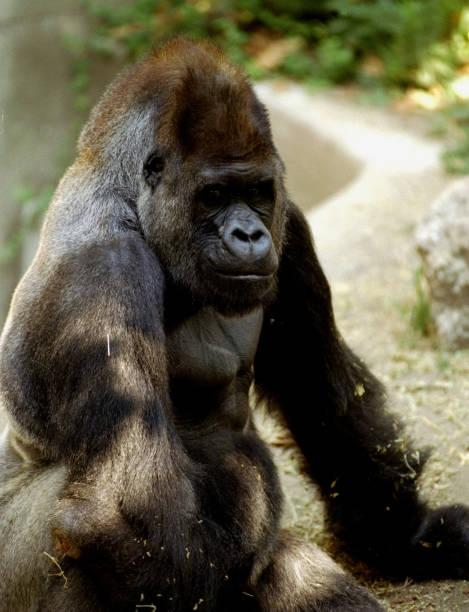gorille_Autres: (0, 29, 469, 612)
